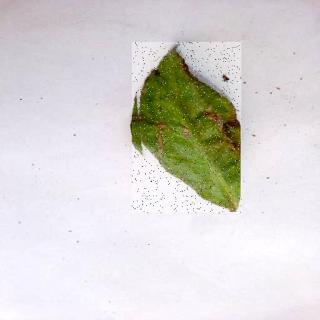Algal Leaf: (134, 44, 244, 215)
